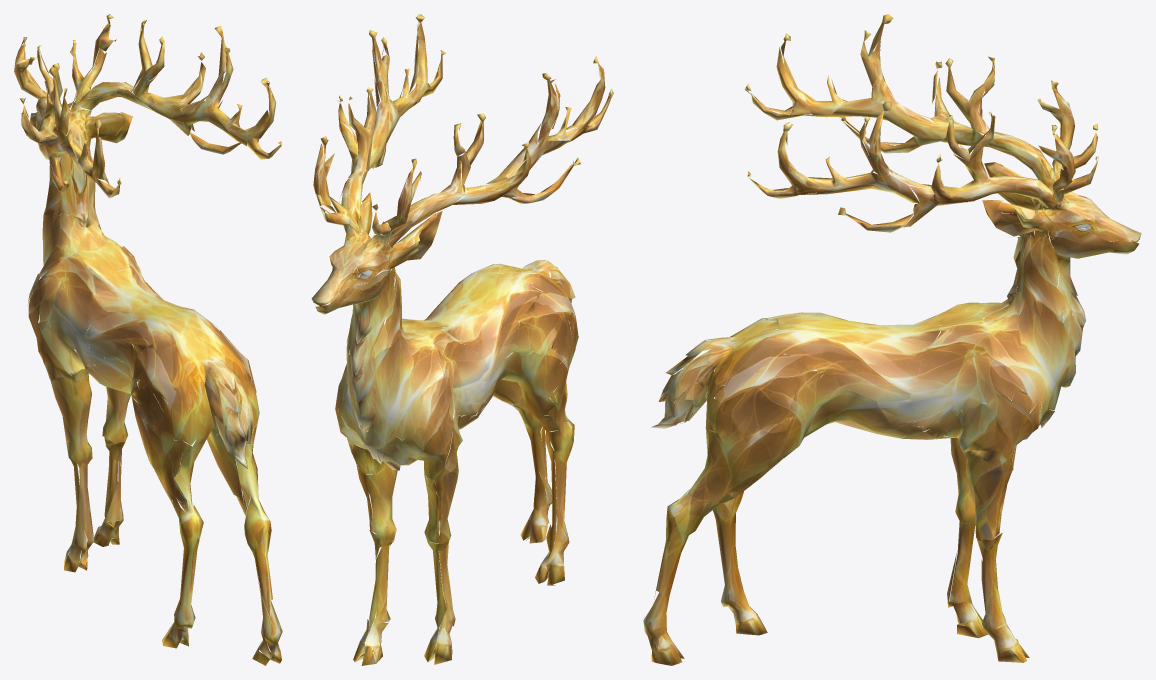
File: cerf.glb
3 renders of one model, left to right at view 1: azimuth 30°, elevation 25°; view 2: azimuth 150°, elevation 25°; view 3: azimuth 270°, elevation 25°, orthographic. The views are drawn at different scales.
Parts seen in each view (by area): view 1: tripo_node_b7bc6003-93d8-4745-8615-1d148efb5bfc; view 2: tripo_node_b7bc6003-93d8-4745-8615-1d148efb5bfc; view 3: tripo_node_b7bc6003-93d8-4745-8615-1d148efb5bfc.
Part boxes in pixels (x1=…): tripo_node_b7bc6003-93d8-4745-8615-1d148efb5bfc: x1=14, y1=14, x2=282, y2=665; tripo_node_b7bc6003-93d8-4745-8615-1d148efb5bfc: x1=311, y1=14, x2=613, y2=665; tripo_node_b7bc6003-93d8-4745-8615-1d148efb5bfc: x1=643, y1=14, x2=1141, y2=665.
Bounding box in the file's own units: 0.3602 × 0.9997 × 0.7696.
Materials: 1 (1 with a texture image).
